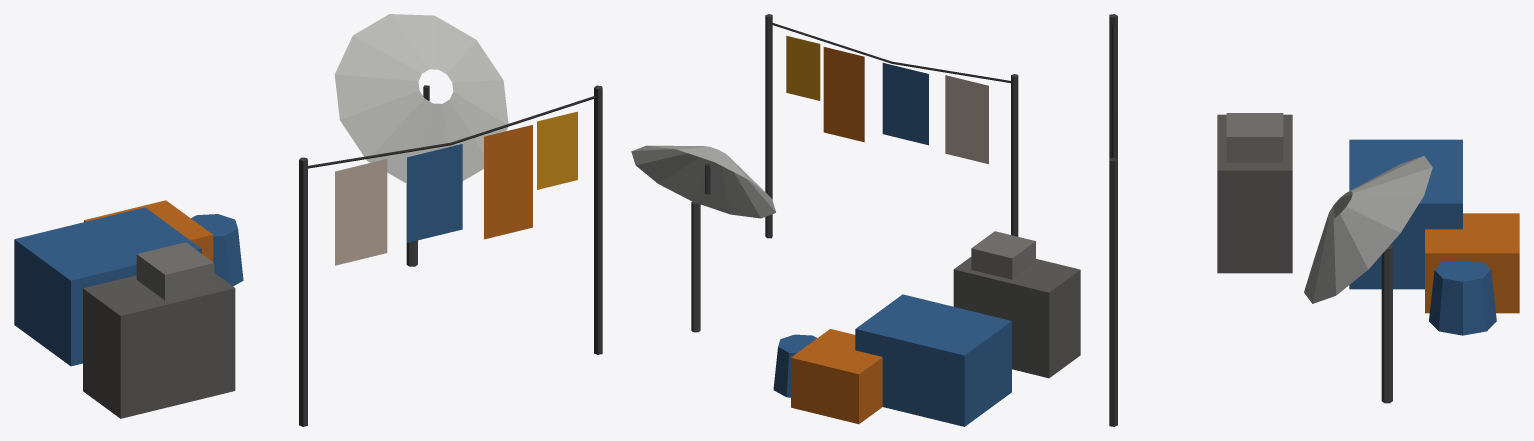
File: rooftop_clutter.glb
3 renders of one model, left to right at view 1: azimuth 30°, elevation 25°; view 2: azimuth 150°, elevation 25°; view 3: azimuth 270°, elevation 25°, orthographic. The views are drawn at different scales.
Visible parts, largest first — view 1: rooftop_clutter; view 2: rooftop_clutter; view 3: rooftop_clutter.
Part boxes in pixels (x1,y1,x2,y2): rooftop_clutter: [14, 14, 602, 426]; rooftop_clutter: [631, 14, 1080, 426]; rooftop_clutter: [1109, 14, 1519, 426].
Size of the model in its own units: 2.8 by 1.55 by 2.17.
